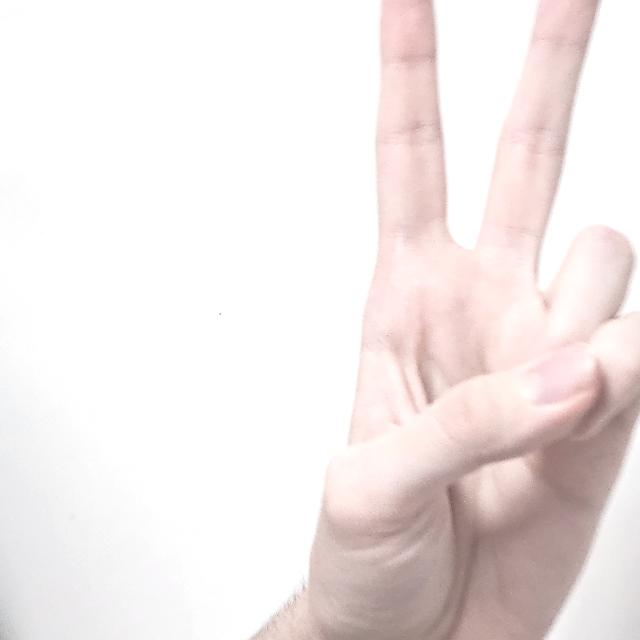Triangulo: (253, 0, 640, 640)
